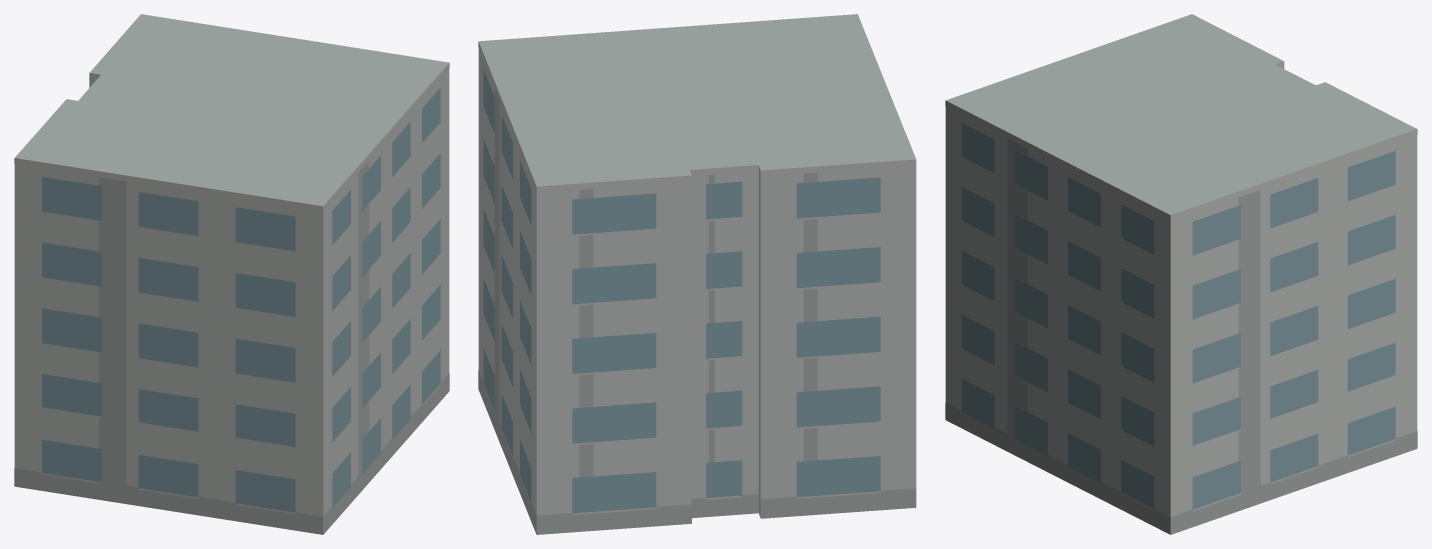
File: survey-upis-32844128.glb
The picture shows the model from 3 angles, left to right: view 1: azimuth 30°, elevation 25°; view 2: azimuth 150°, elevation 25°; view 3: azimuth 270°, elevation 25°; orthographic projection. The views are drawn at different scales.
Parts seen in each view (by area): view 1: survey-upis-32844128.tmp; view 2: survey-upis-32844128.tmp; view 3: survey-upis-32844128.tmp.
Part boxes in pixels (x1,y1,x2,y2): survey-upis-32844128.tmp: (14,14,449,534); survey-upis-32844128.tmp: (478,14,916,534); survey-upis-32844128.tmp: (945,14,1417,534).
Bounding box in the file's own units: 17.83 × 13.2 × 17.67.
